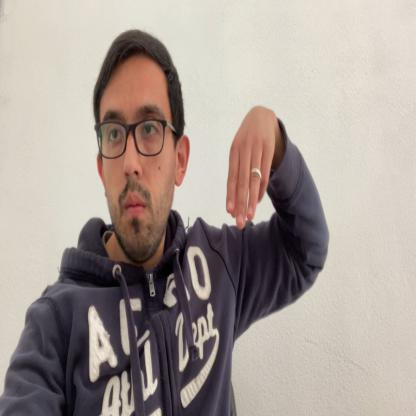M: (226, 107, 276, 228)
